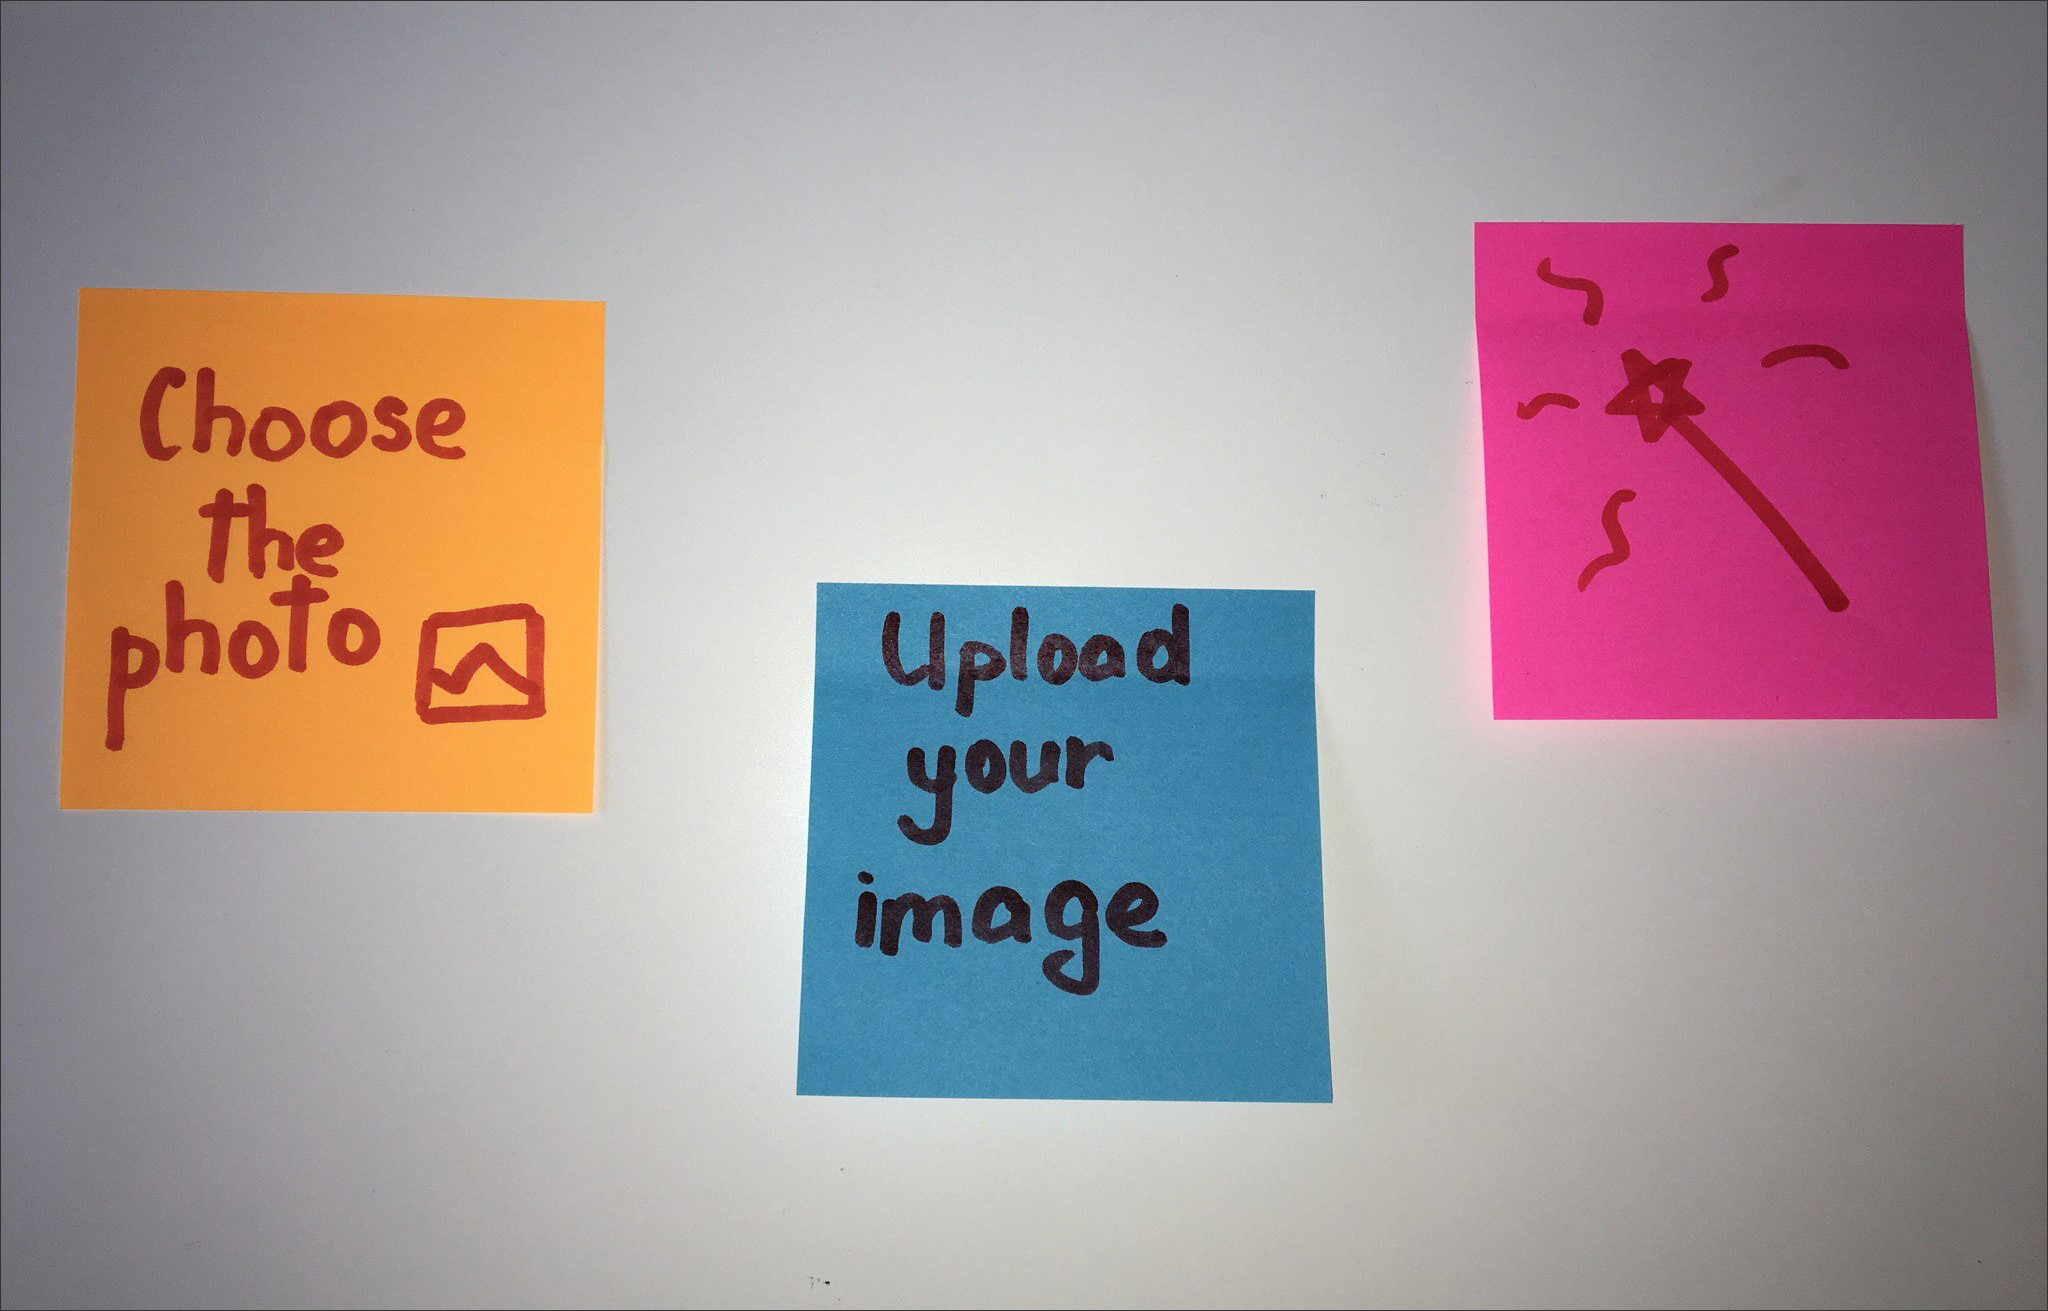stickynote: (788, 572, 1350, 1114), (58, 278, 612, 822), (1468, 214, 2008, 732)
